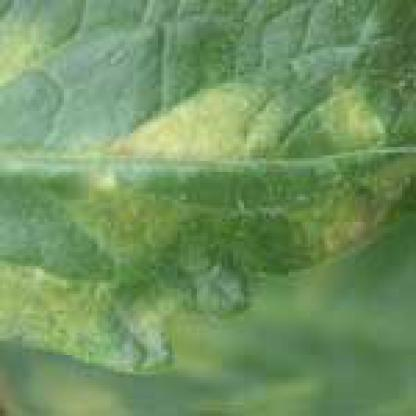tomato mold leaf: (3, 3, 413, 385)
